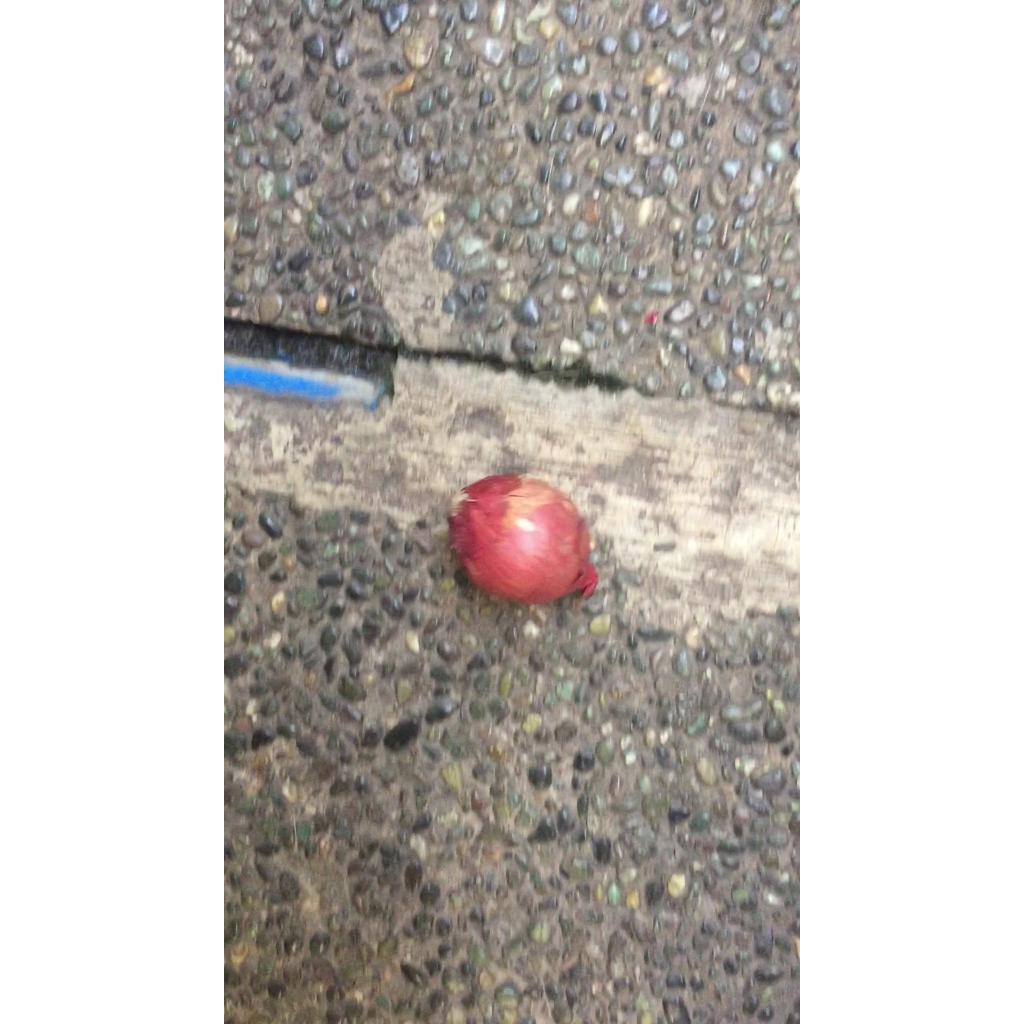Onion: (448, 473, 597, 605)
